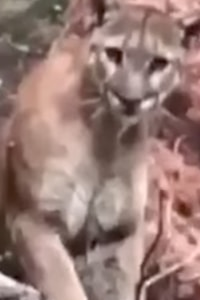Mountain Lion: (11, 3, 189, 298)
